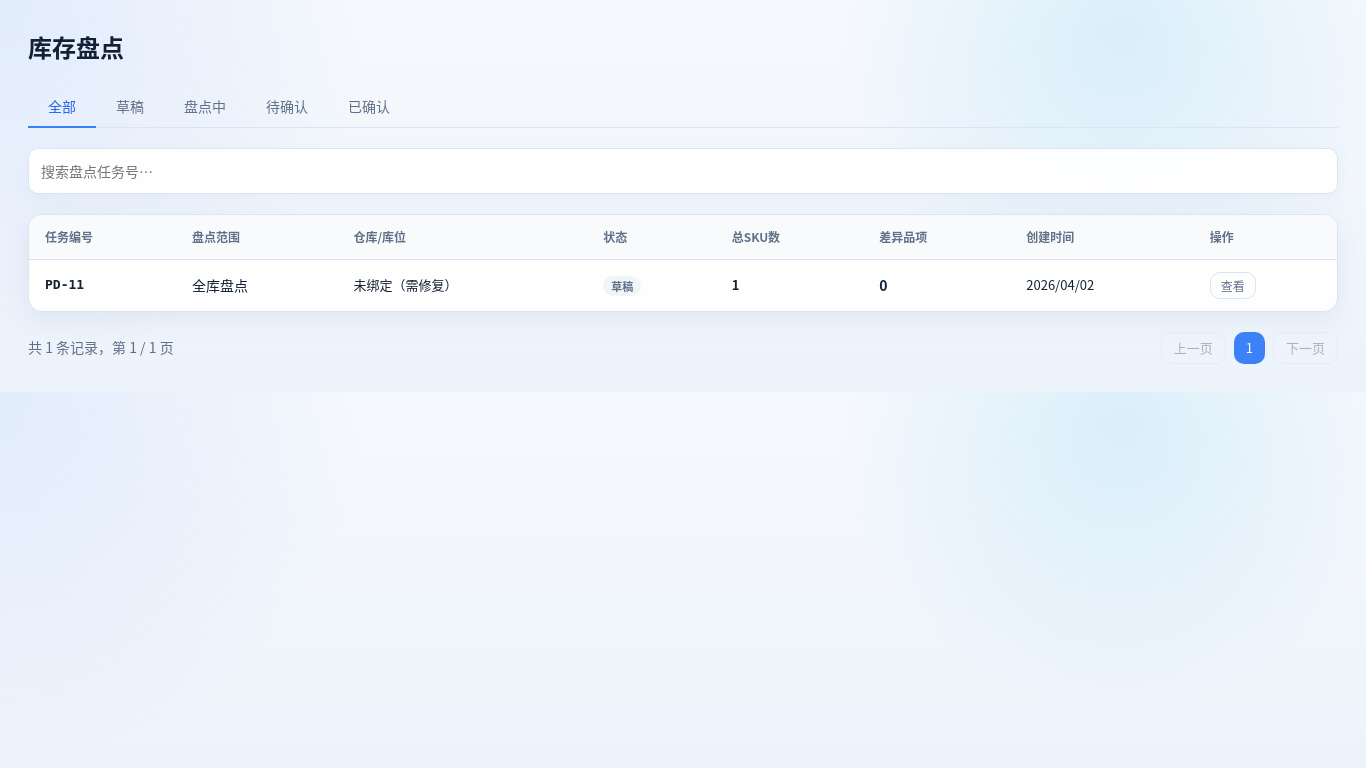
Test case: StocktakingPage › 没有 stocktaking:create 权限时不展示新建入口和保存按钮
This screenshot has width=1366, height=768.
Click the button with aria-label "查看盘点明细" at (1233, 285), box [1210,272,1256,299]
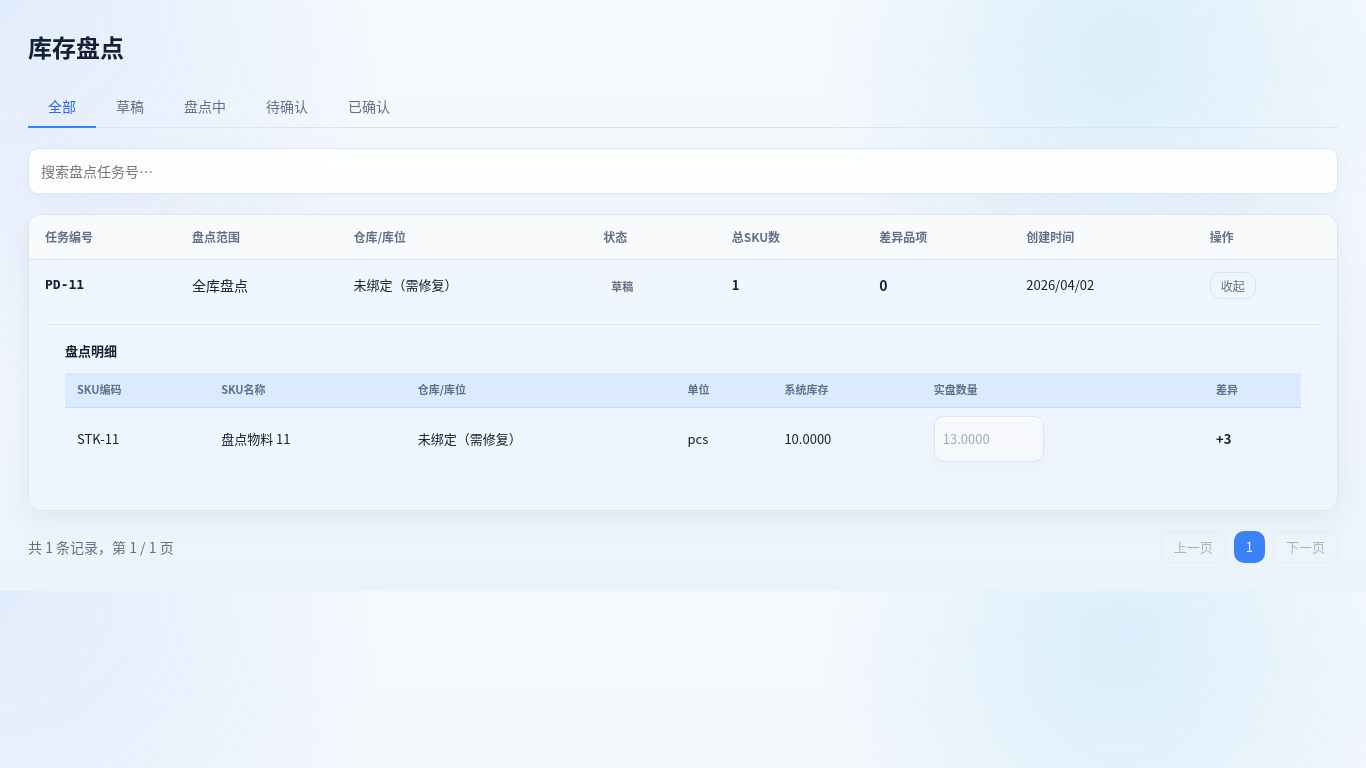
Check: the text "盘点明细" is shown, box [65,341,117,360]
Check: the number field showing "13.0000" is disabled, box [934,416,1044,462]
